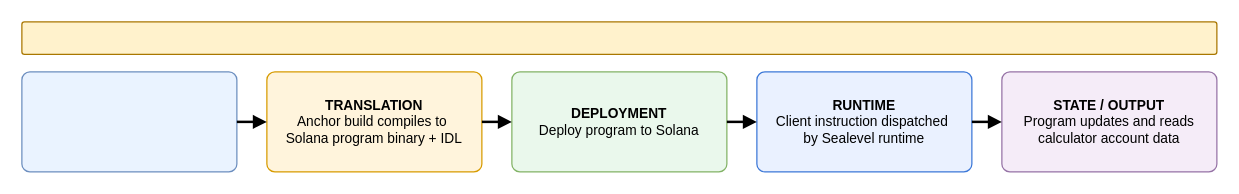
Some shapes in this 1239 by 194 pixel diagram are drawn without their labels. The shapes that lost their labels are listed below. From the top down, each one's box as (x1, y1, x2, y2) in pixels, then its label:
(21, 21, 1217, 54): Translation layers before runtime: 1
(21, 71, 237, 172): SOURCE Rust source with Anchor macros
